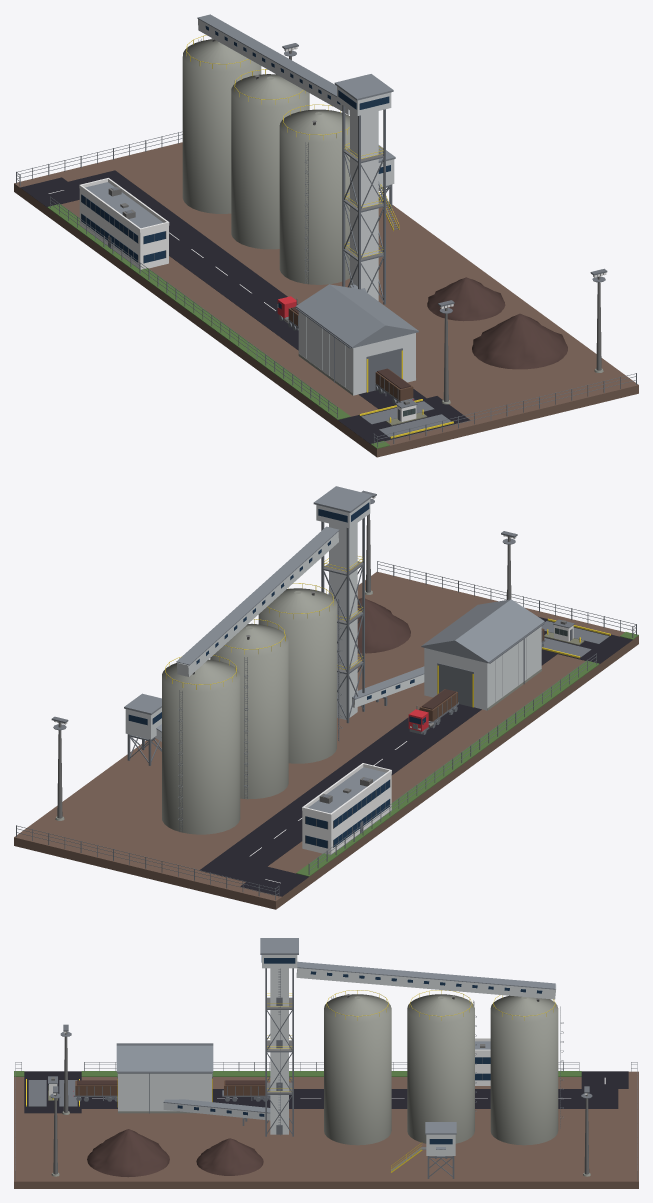
The model's file is top-prebuilt_close.fbx.
The picture shows the model from 3 angles, top to bottom: view 1: azimuth 30°, elevation 25°; view 2: azimuth 150°, elevation 25°; view 3: azimuth 270°, elevation 25°; orthographic projection. The views are drawn at different scales.
Visible parts, largest first — view 1: a1077_0_top-prebuilt_close; view 2: a1077_0_top-prebuilt_close; view 3: a1077_0_top-prebuilt_close.
Boxes of the visible parts, x1=… form: a1077_0_top-prebuilt_close: x1=14, y1=14, x2=638, y2=457; a1077_0_top-prebuilt_close: x1=14, y1=486, x2=638, y2=909; a1077_0_top-prebuilt_close: x1=14, y1=938, x2=638, y2=1188.
Bounding box in the file's own units: 50 × 40.8 × 120.
